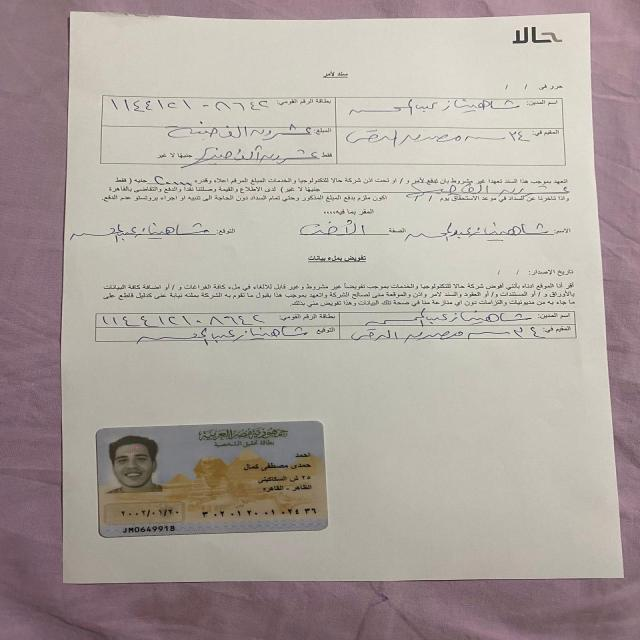ID-cards: (92, 419, 335, 541)
